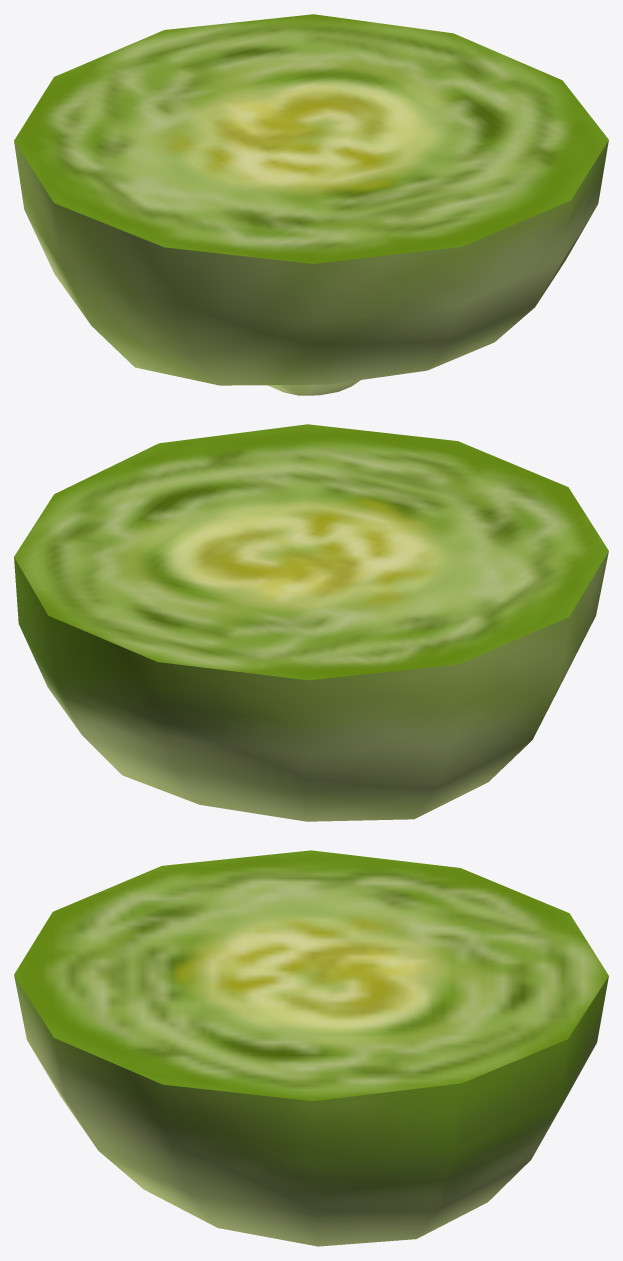
The model's file is assets_salad_ball_half.fbx.
3 renders of one model, top to bottom at view 1: azimuth 30°, elevation 25°; view 2: azimuth 150°, elevation 25°; view 3: azimuth 270°, elevation 25°, orthographic.
Parts seen in each view (by area): view 1: assets_salad_ball_half; view 2: assets_salad_ball_half; view 3: assets_salad_ball_half.
Boxes of the visible parts, x1,y1,x2,y2 form: assets_salad_ball_half: [14, 14, 608, 395]; assets_salad_ball_half: [14, 424, 608, 821]; assets_salad_ball_half: [14, 850, 608, 1246].
Bounding box in the file's own units: 1.97 × 0.9309 × 2.
